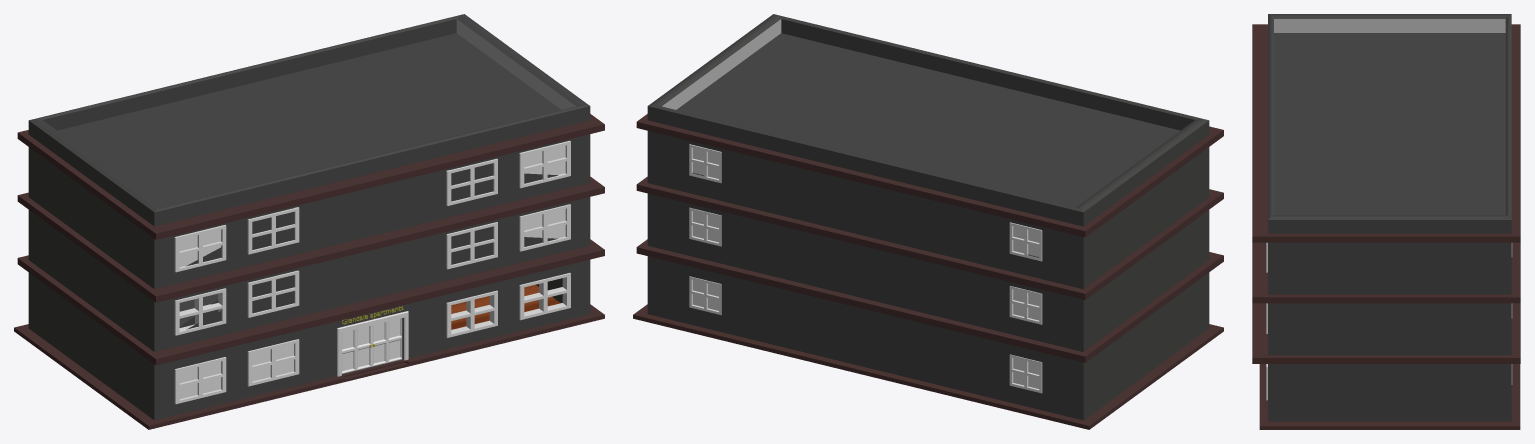
File: APARTMENT FOR BRACKEYS 2026.fbx
The picture shows the model from 3 angles, left to right: view 1: azimuth 30°, elevation 25°; view 2: azimuth 150°, elevation 25°; view 3: azimuth 270°, elevation 25°; orthographic projection. The views are drawn at different scales.
Visible parts, largest first — view 1: APARTMENT .002, Cube.005, Cube.002, Cube.004, GLASS, GLASS.005, GLASS.004, GLASS.001, GLASS.007, GLASS.006, Plane.001, Plane; view 2: APARTMENT .002, Cube.005, Cube.002, Cube.004; view 3: APARTMENT .002.
Part boxes in pixels (left/top/right/bottom): APARTMENT .002: left=14, top=14, right=604, bottom=429; Cube.005: left=174, top=273, right=570, bottom=404; Cube.002: left=174, top=204, right=570, bottom=335; Cube.004: left=174, top=140, right=570, bottom=272; GLASS: left=179, top=343, right=293, bottom=398; GLASS.005: left=373, top=318, right=400, bottom=363; GLASS.004: left=342, top=326, right=368, bottom=370; GLASS.001: left=524, top=209, right=565, bottom=238; GLASS.007: left=524, top=145, right=565, bottom=174; GLASS.006: left=179, top=229, right=220, bottom=267; Plane.001: left=372, top=318, right=402, bottom=366; Plane: left=342, top=325, right=371, bottom=373; APARTMENT .002: left=633, top=14, right=1223, bottom=429; Cube.005: left=689, top=276, right=1042, bottom=393; Cube.002: left=689, top=207, right=1042, bottom=324; Cube.004: left=689, top=144, right=1042, bottom=261; APARTMENT .002: left=1252, top=14, right=1520, bottom=429.
Size of the model in its own units: 837 by 373 by 440.
